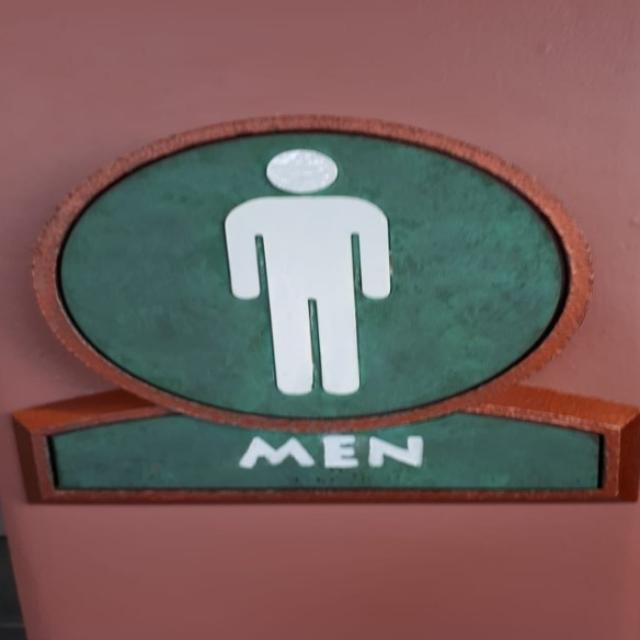wc nam: (27, 118, 638, 501)
